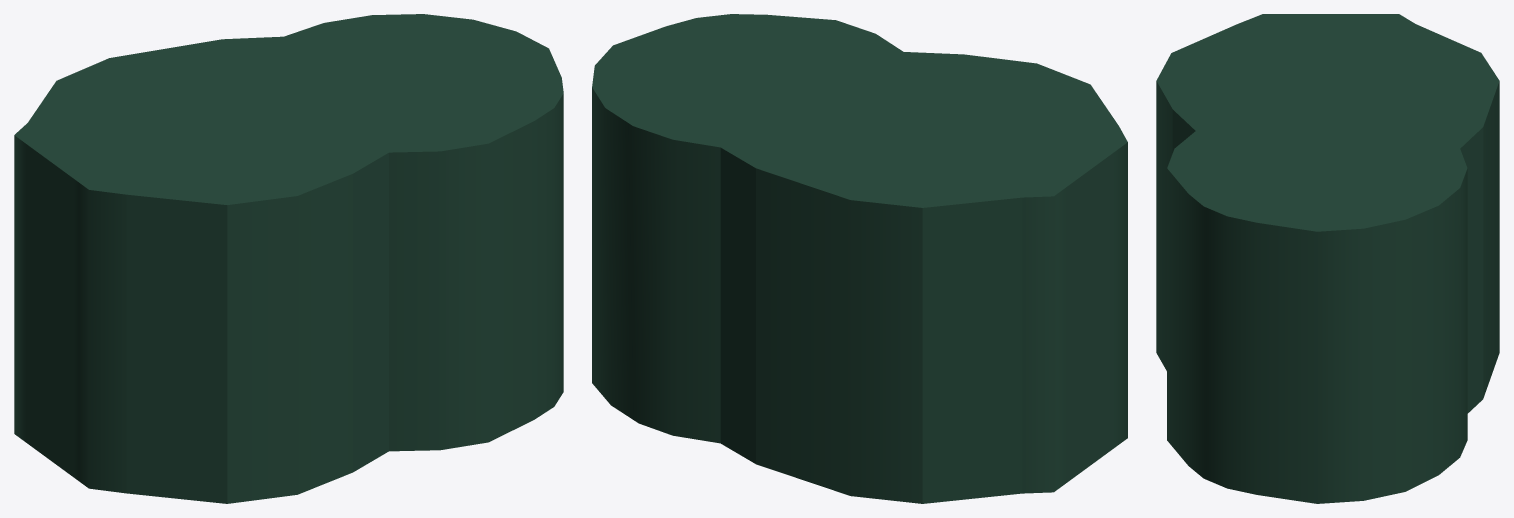
Rendered from ForegroundRock.fbx.
3 views of the same model, side by side, from view 1: azimuth 30°, elevation 25°; view 2: azimuth 150°, elevation 25°; view 3: azimuth 270°, elevation 25° (orthographic). The views are drawn at different scales.
Visible parts, largest first — view 1: pCylinder1; view 2: pCylinder1; view 3: pCylinder1.
Part boxes in pixels (x1=…): pCylinder1: x1=14, y1=14, x2=563, y2=503; pCylinder1: x1=592, y1=14, x2=1127, y2=503; pCylinder1: x1=1156, y1=14, x2=1499, y2=503.
Bounding box in the file's own units: 3.43 × 2 × 2.29.
